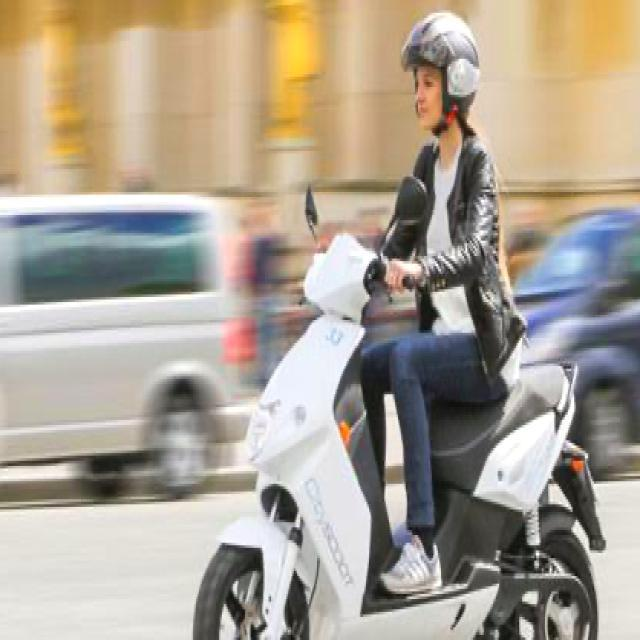Helmet: (398, 5, 482, 136)
